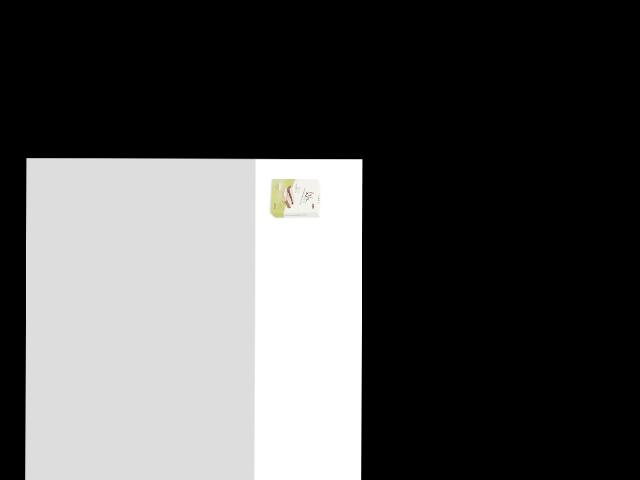chocolate: (269, 178, 320, 220)
